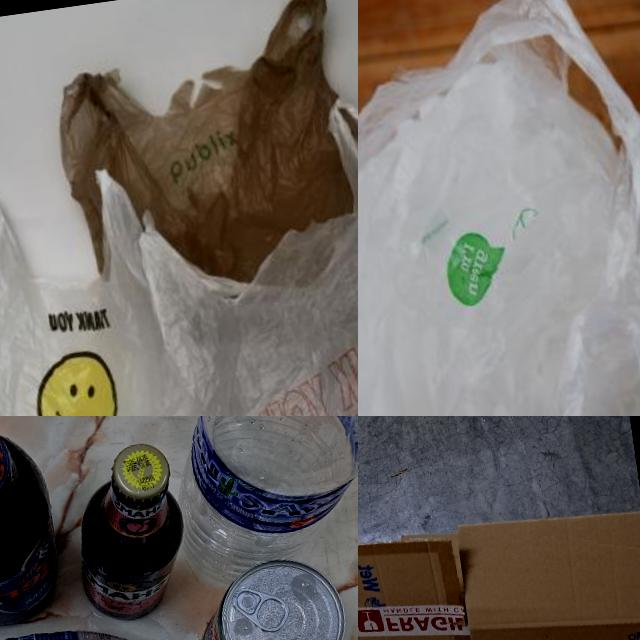aba de lata: (232, 582, 293, 639)
garrafa de vidro: (64, 438, 192, 624), (0, 416, 69, 631)
garrafa plástica: (153, 416, 358, 593)
lata: (193, 551, 354, 640)
papelão: (358, 486, 640, 640)
sacola plástica: (358, 0, 640, 416), (23, 0, 358, 305), (127, 85, 358, 416), (0, 169, 208, 416)
